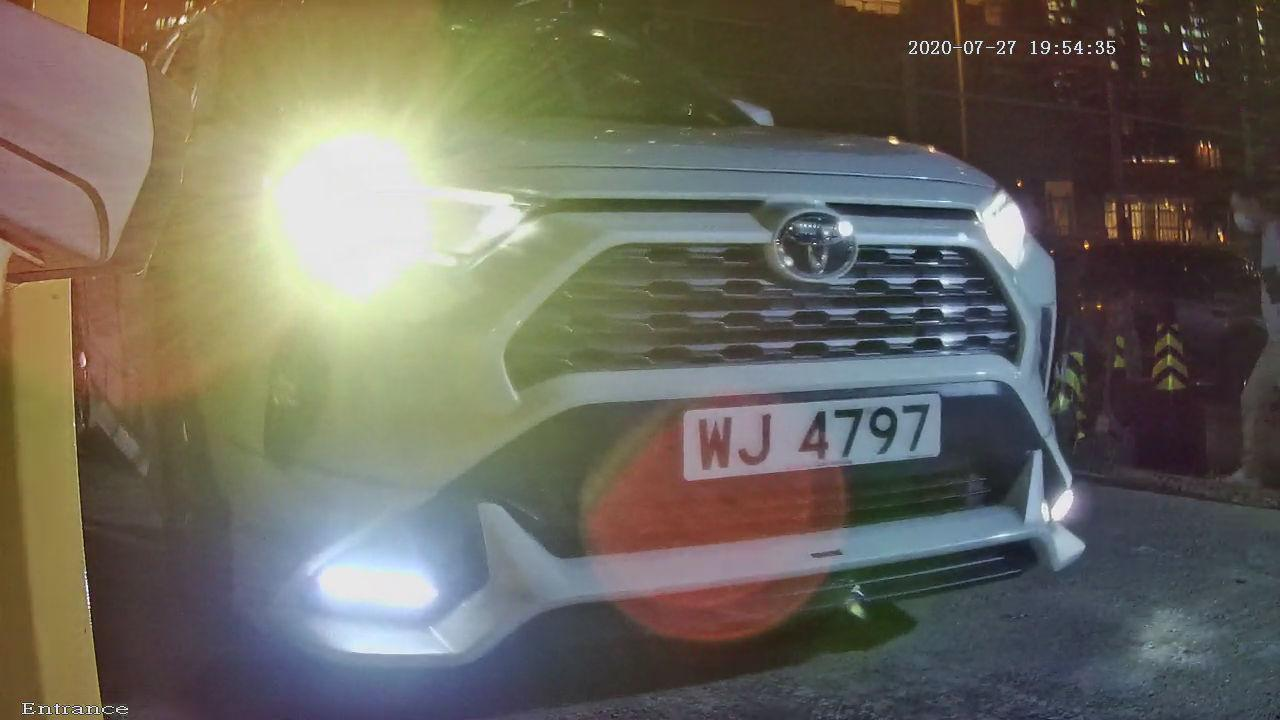privatecar: (172, 23, 1183, 672)
